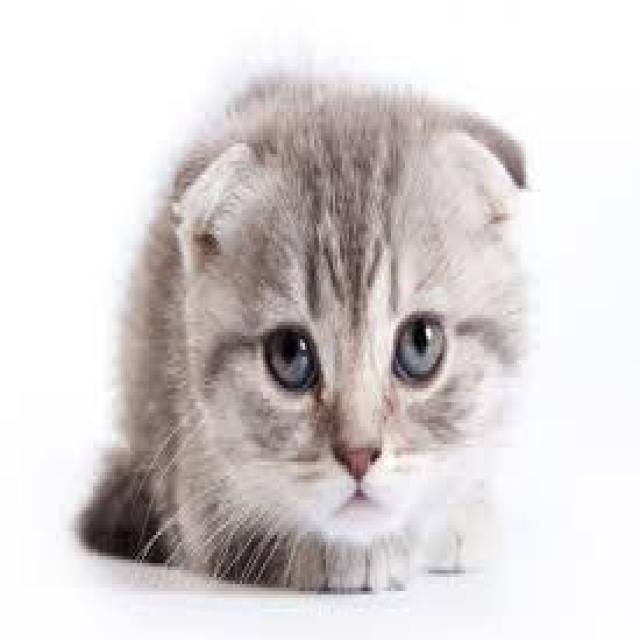cat: (74, 12, 534, 598)
